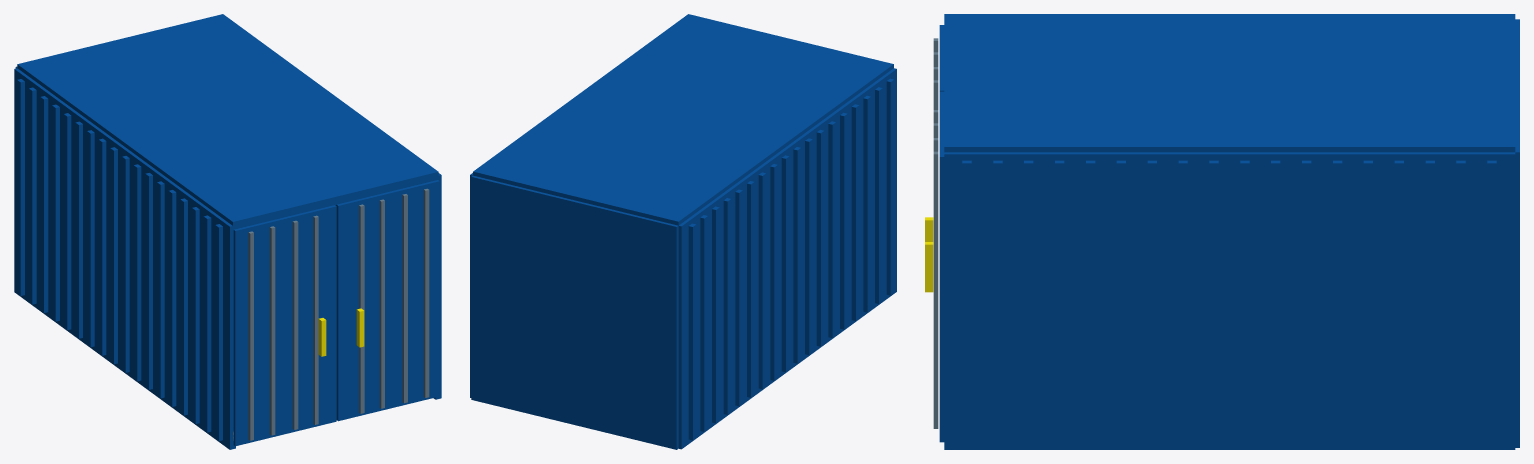
Rendered from container.glb.
3 views of the same model, side by side, from view 1: azimuth 30°, elevation 25°; view 2: azimuth 150°, elevation 25°; view 3: azimuth 270°, elevation 25° (orthographic). The views are drawn at different scales.
Parts seen in each view (by area): view 1: ContainerRoof, DoorPanel (×2), Rib (×18), ContainerWall (×2), DoorRib (×8); view 2: ContainerBack, ContainerRoof, Rib (×18), ContainerWall (×2); view 3: ContainerWall, ContainerRoof, Rib (×18), ContainerBack, DoorPanel, DoorRib.
Boxes of the visible parts, bbox=[...] form: ContainerRoof: bbox=[17, 14, 438, 229]; DoorPanel (×2): bbox=[233, 180, 439, 446]; Rib (×18): bbox=[17, 79, 222, 440]; ContainerWall (×2): bbox=[14, 68, 441, 449]; DoorRib (×8): bbox=[248, 188, 429, 440]; ContainerBack: bbox=[471, 175, 678, 449]; ContainerRoof: bbox=[473, 14, 893, 225]; Rib (×18): bbox=[688, 78, 894, 440]; ContainerWall (×2): bbox=[470, 68, 896, 449]; ContainerWall: bbox=[944, 152, 1515, 449]; ContainerRoof: bbox=[944, 14, 1515, 152]; Rib (×18): bbox=[962, 160, 1496, 446]; ContainerBack: bbox=[1515, 19, 1519, 447]; DoorPanel: bbox=[939, 91, 944, 442]; DoorRib: bbox=[933, 151, 938, 428].
Size of the model in its own units: 2.89 by 2.85 by 5.1.
